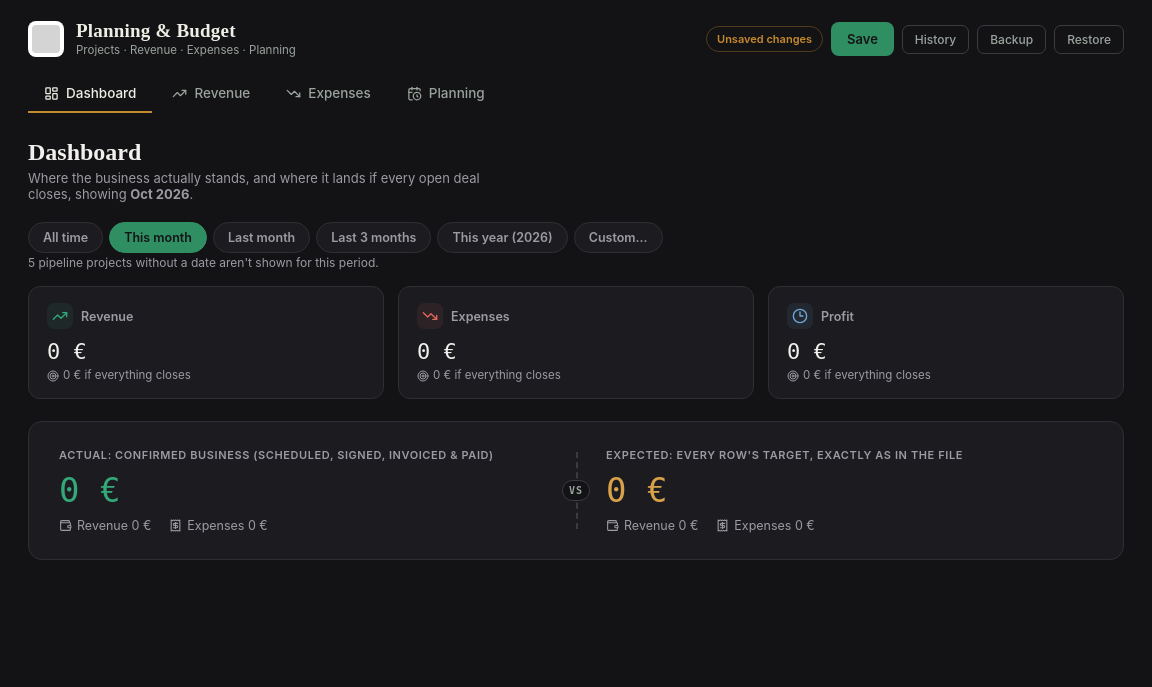
tab navigation › switches between all four tabs
The image size is (1152, 687).
Click the button "Revenue" at (211, 94), box [156,75,266,113]
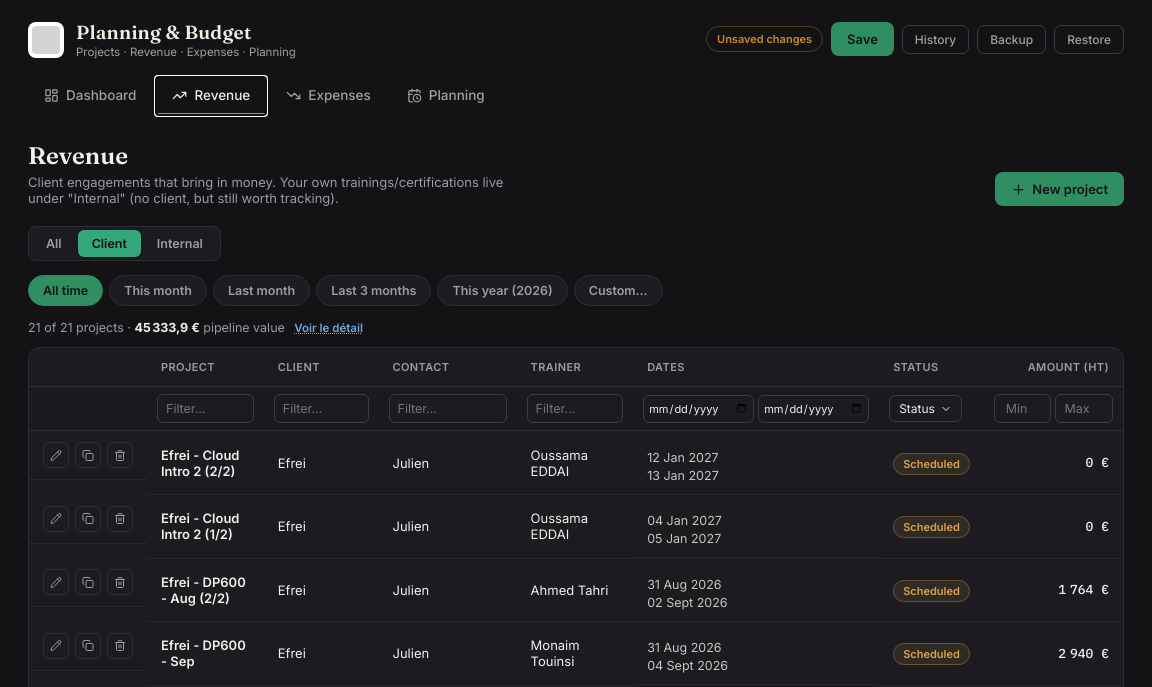
Check: the heading "Revenue" is shown, box [28,141,128,170]
Click the button "Expenses" at (329, 96), box [270,77,387,115]
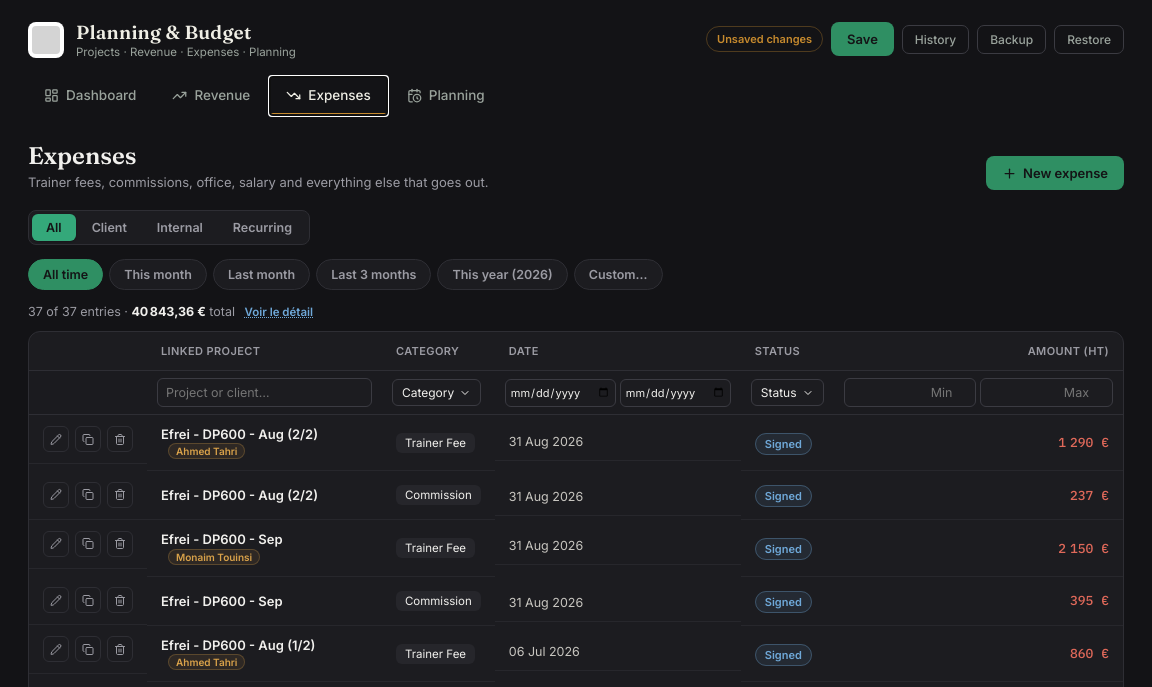
Check: the heading "Expenses" is shown, box [28,141,136,170]
Click the button "Planning" at (446, 96), box [391,77,501,115]
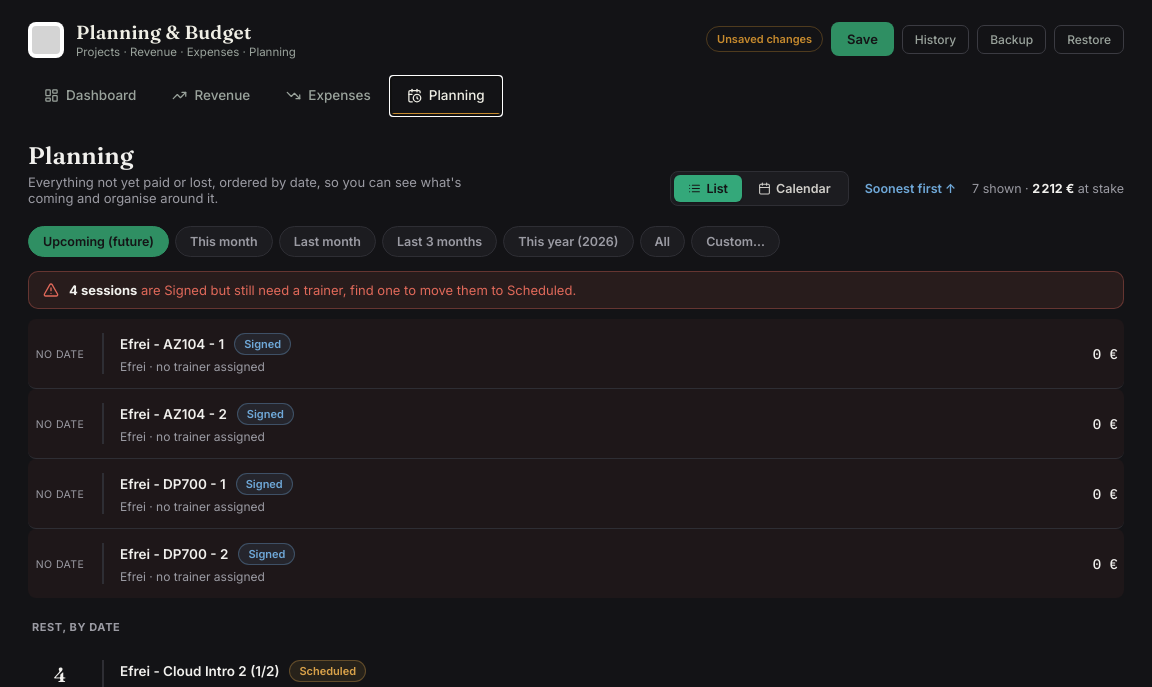
Check: the heading "Planning" is shown, box [28,141,134,170]
Click the button "Dashboard" at (90, 96), box [28,77,152,115]
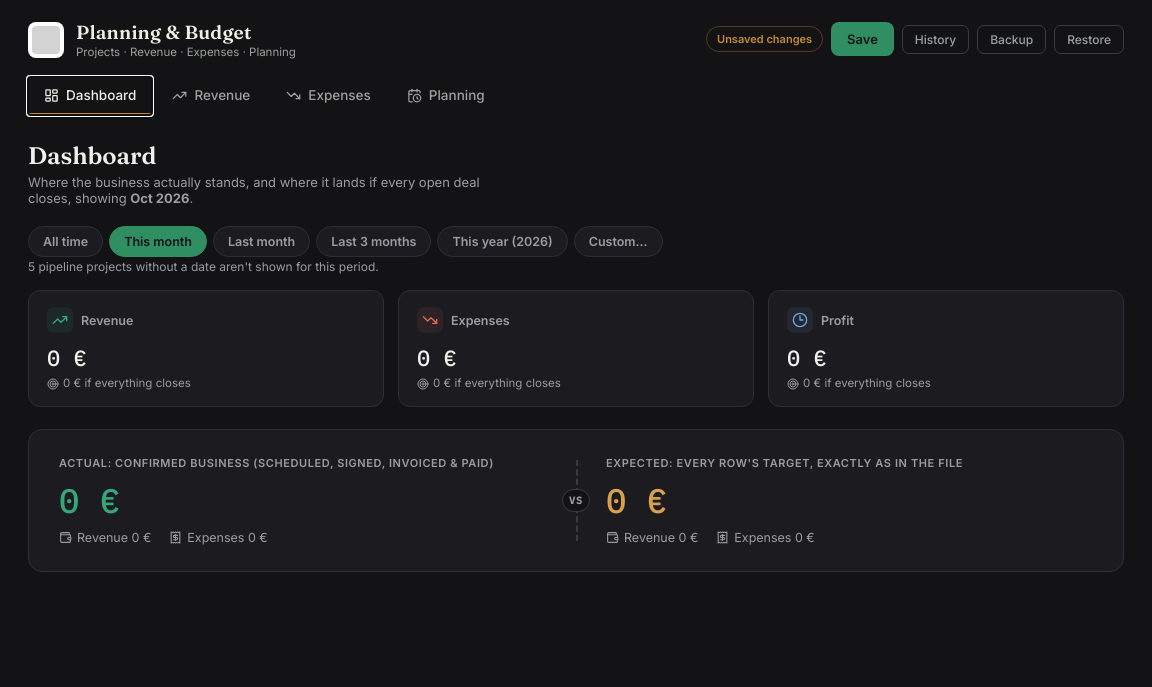
Check: the heading "Dashboard" is shown, box [28,141,156,170]
